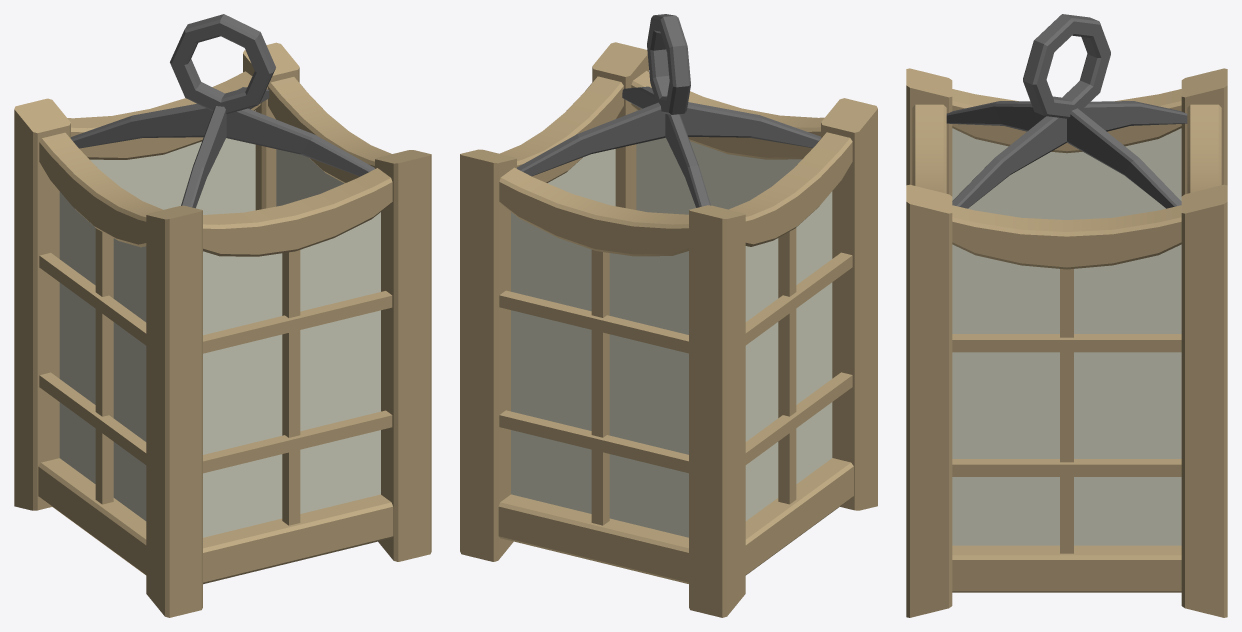
The model's file is Lamp.fbx.
3 renders of one model, left to right at view 1: azimuth 30°, elevation 25°; view 2: azimuth 150°, elevation 25°; view 3: azimuth 270°, elevation 25°, orthographic. The views are drawn at different scales.
Visible parts, largest first — view 1: polySurface13; view 2: polySurface13; view 3: polySurface13.
Boxes of the visible parts, x1,y1,x2,y2 form: polySurface13: (14,14,431,617); polySurface13: (460,14,877,617); polySurface13: (906,14,1227,617).
Size of the model in its own units: 7 by 12.87 by 7.
